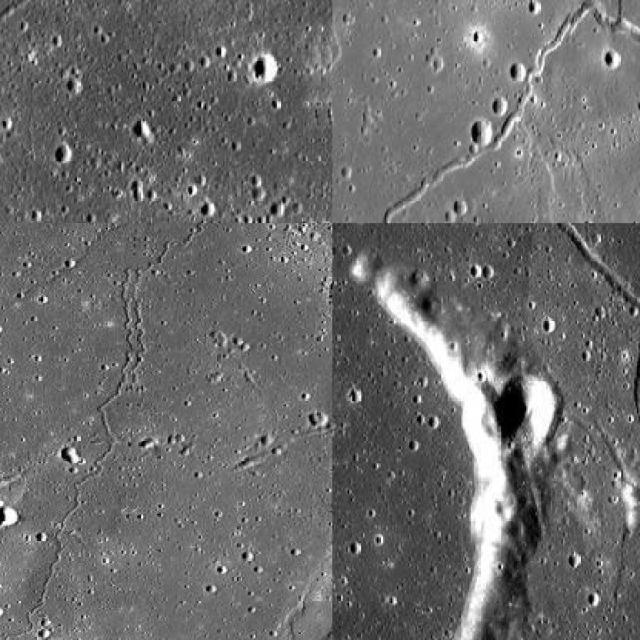rille: (332, 0, 638, 222), (0, 0, 254, 222), (0, 266, 137, 639), (538, 223, 638, 549), (131, 223, 237, 383)
